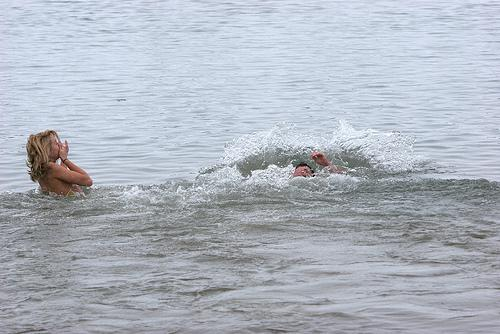human: (25, 130, 93, 198), (293, 156, 334, 179)
